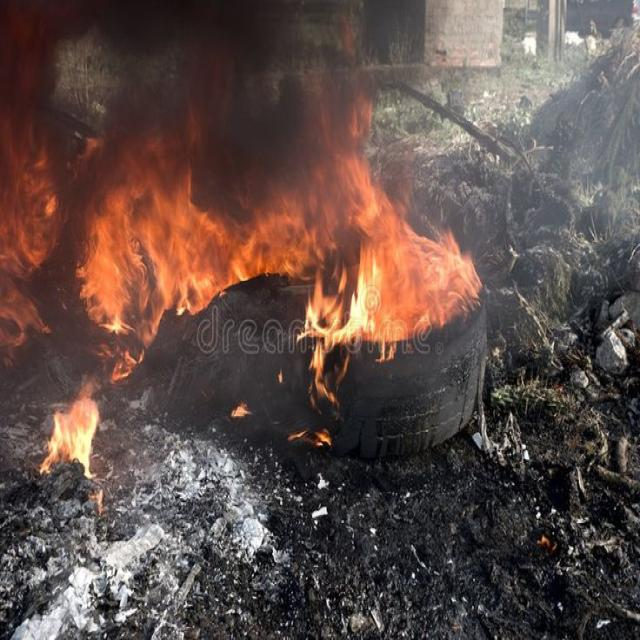fire: (85, 144, 481, 384), (3, 112, 61, 358), (40, 394, 100, 482)
